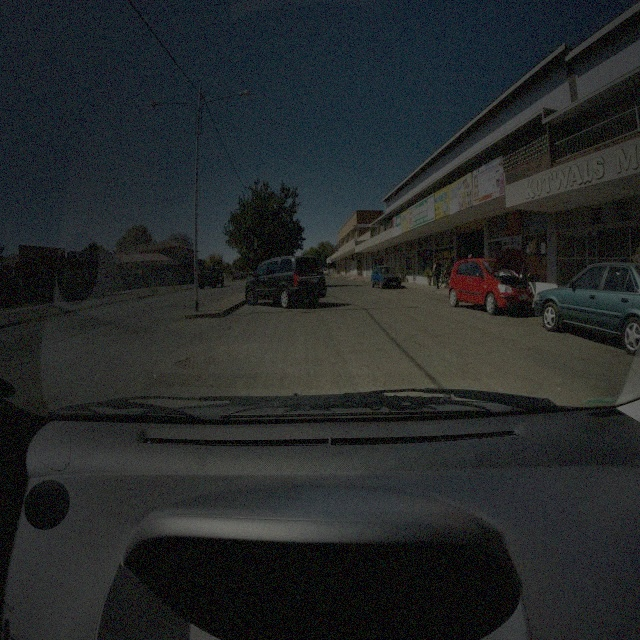pothole: (174, 350, 217, 370)
